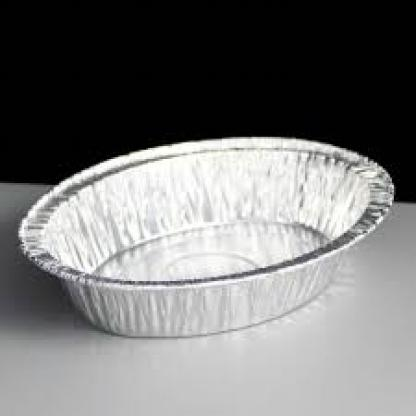METAL: (17, 133, 392, 337)
